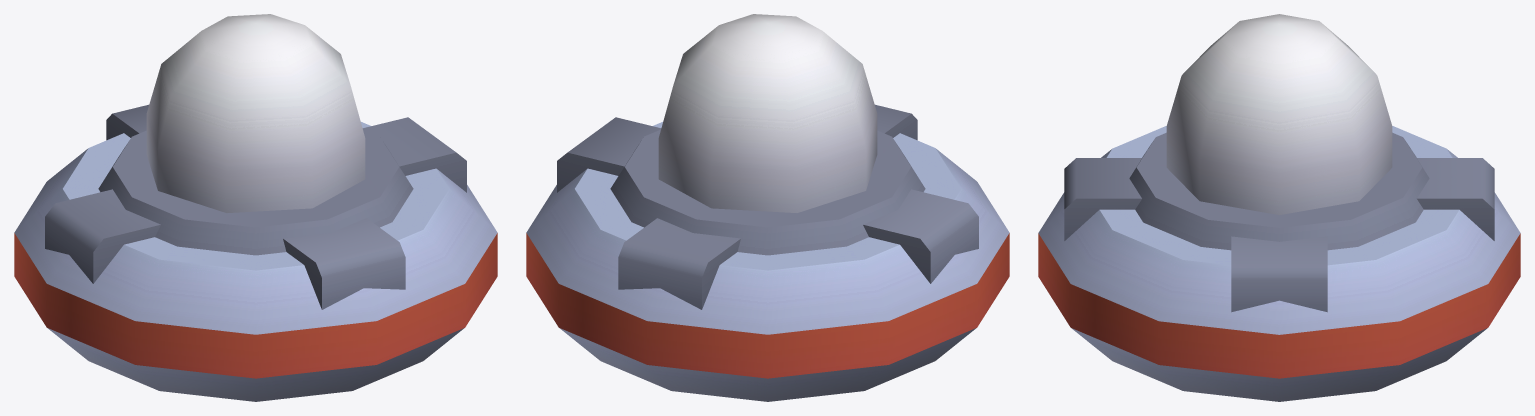
The model's file is enemy-ufo-a.glb.
3 views of the same model, side by side, from view 1: azimuth 30°, elevation 25°; view 2: azimuth 150°, elevation 25°; view 3: azimuth 270°, elevation 25° (orthographic).
Parts seen in each view (by area): view 1: enemy-ufo-a; view 2: enemy-ufo-a; view 3: enemy-ufo-a.
Part boxes in pixels (x1,y1,x2,y2): enemy-ufo-a: (14,14,497,401); enemy-ufo-a: (526,14,1009,401); enemy-ufo-a: (1038,14,1520,401).
Bounding box in the file's own units: 1 × 0.6779 × 1.
1 material, 1 textured.
